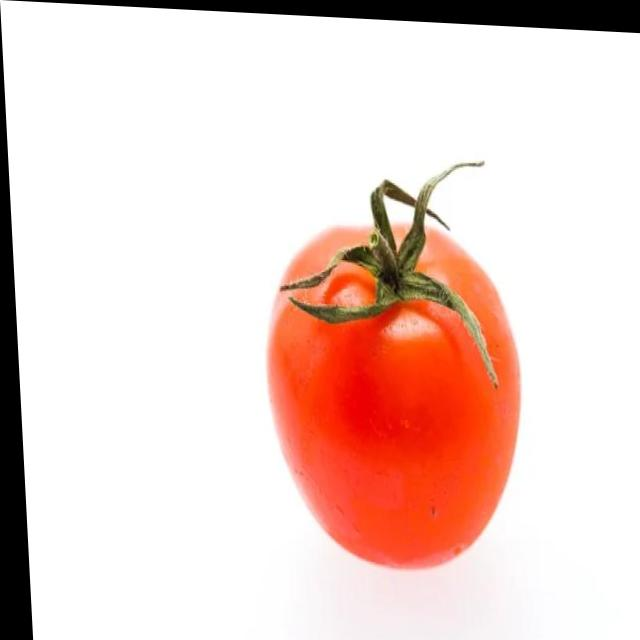kirmizi: (243, 170, 541, 583)
